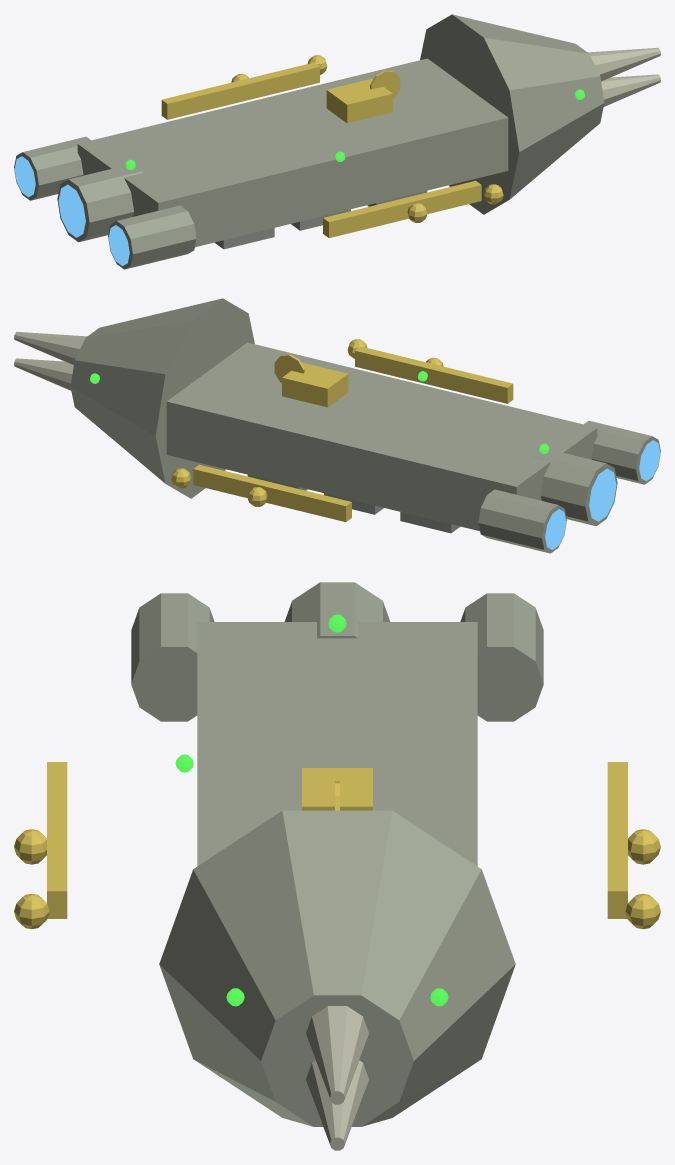
The model's file is mining_cruiser.glb.
The picture shows the model from 3 angles, top to bottom: view 1: azimuth 30°, elevation 25°; view 2: azimuth 150°, elevation 25°; view 3: azimuth 270°, elevation 25°; orthographic projection. The views are drawn at different scales.
Parts seen in each view (by area): view 1: Hull, Nose, Eng-0.32, Eng0, Eng0.32, Bridge, Arm1_1, Arm-1_1, Arm1_0, Arm-1_0, Drill0.06, Drill-0.04 (+5 smaller); view 2: Hull, Nose, Eng0.32, Eng0, Eng-0.32, Bridge, Arm-1_1, Arm1_1, Arm-1_0, Arm1_0, Drill0.06, Drill-0.04 (+5 smaller); view 3: Nose, Hull, Eng-0.32, Eng0.32, Drill0.06, Eng0, Bridge, Drill-0.04, Arm-1_0, Arm1_0, Arm-1_1, Arm1_1 (+4 smaller).
Boxes of the visible parts, x1,y1,x2,y2 form: Hull: [77, 58, 508, 247]; Nose: [420, 14, 604, 214]; Eng-0.32: [108, 205, 196, 269]; Eng0: [57, 165, 142, 242]; Eng0.32: [14, 136, 90, 200]; Bridge: [326, 78, 392, 123]; Arm1_1: [161, 81, 243, 119]; Arm-1_1: [323, 199, 405, 237]; Arm1_0: [238, 62, 319, 100]; Arm-1_0: [400, 180, 481, 219]; Drill0.06: [588, 47, 660, 81]; Drill-0.04: [601, 74, 660, 106]; Hull: [166, 342, 597, 531]; Nose: [70, 298, 254, 498]; Eng0.32: [478, 489, 566, 553]; Eng0: [532, 449, 617, 526]; Eng-0.32: [584, 420, 660, 484]; Bridge: [282, 362, 348, 407]; Arm-1_1: [431, 365, 513, 403]; Arm1_1: [269, 483, 351, 521]; Arm-1_0: [355, 346, 436, 384]; Arm1_0: [193, 464, 274, 503]; Drill0.06: [14, 331, 86, 365]; Drill-0.04: [14, 358, 73, 390]; Nose: [159, 810, 515, 1126]; Hull: [197, 622, 477, 866]; Eng-0.32: [131, 593, 214, 721]; Eng0.32: [460, 593, 543, 721]; Drill0.06: [306, 1006, 368, 1104]; Eng0: [284, 582, 390, 638]; Bridge: [302, 768, 372, 810]; Drill-0.04: [306, 1060, 368, 1150]; Arm-1_0: [47, 826, 67, 918]; Arm1_0: [607, 826, 627, 918]; Arm-1_1: [47, 762, 67, 826]; Arm1_1: [607, 762, 627, 826].
Bounding box in the file's own units: 2.3 × 0.6657 × 1.27.
